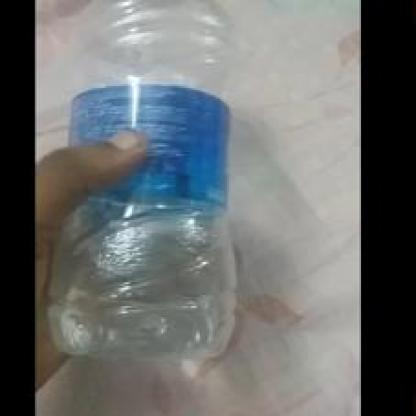bottle: (58, 2, 245, 377)
